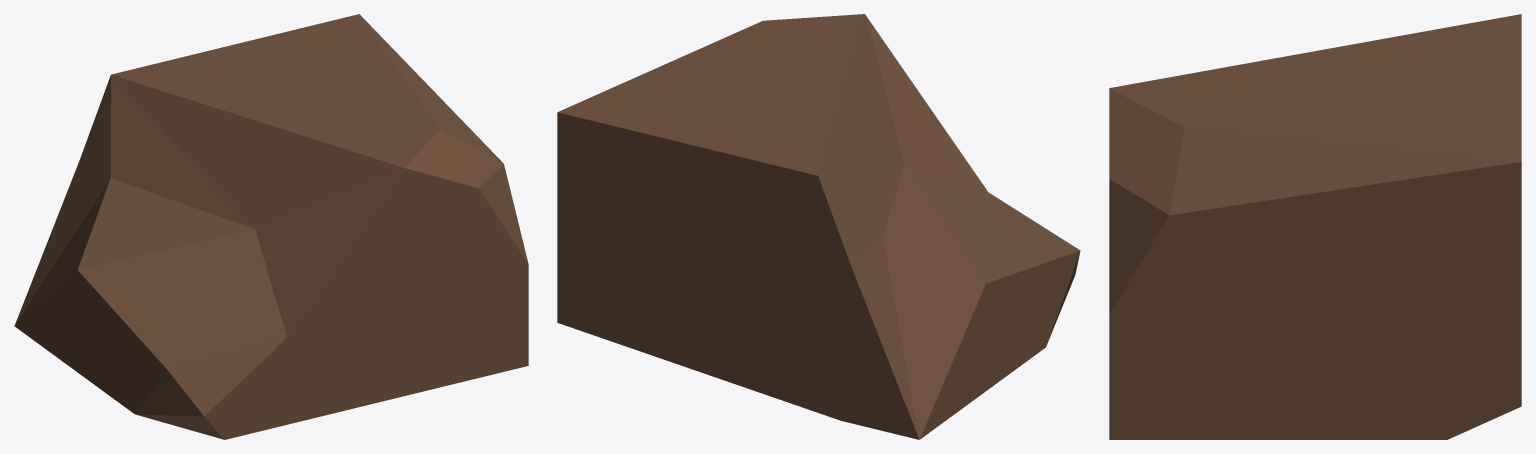
The model's file is SM_Prop_Brick_Half_01.glb.
The picture shows the model from 3 angles, left to right: view 1: azimuth 30°, elevation 25°; view 2: azimuth 150°, elevation 25°; view 3: azimuth 270°, elevation 25°; orthographic projection. The views are drawn at different scales.
Parts seen in each view (by area): view 1: SM_Prop_Brick_Half_01; view 2: SM_Prop_Brick_Half_01; view 3: SM_Prop_Brick_Half_01.
Boxes of the visible parts, x1=… form: SM_Prop_Brick_Half_01: x1=14, y1=14, x2=528, y2=439; SM_Prop_Brick_Half_01: x1=557, y1=14, x2=1080, y2=439; SM_Prop_Brick_Half_01: x1=1109, y1=14, x2=1521, y2=439.
Bounding box in the file's own units: 0.3033 × 0.1916 × 0.2576.
Materials: 1 (1 with a texture image).
